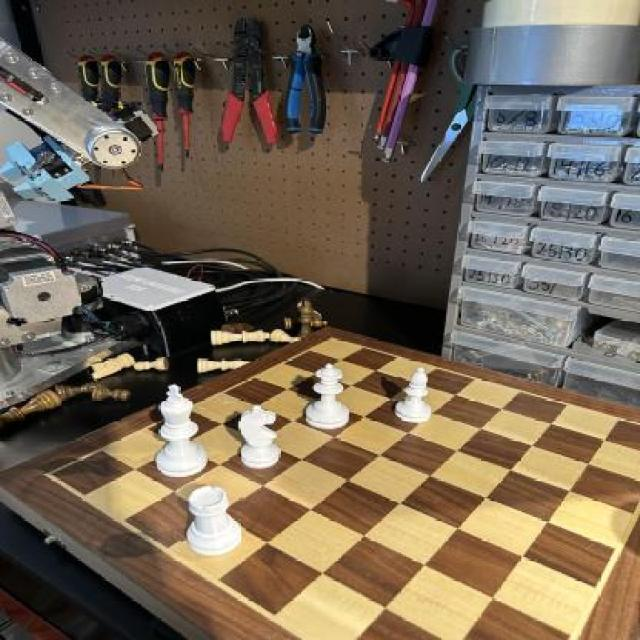black-rook: (395, 363, 440, 425)
white-bishop: (142, 383, 208, 481)
white-king: (230, 403, 282, 475)
white-pawn: (308, 362, 355, 432)
white-queen: (177, 482, 247, 560)
